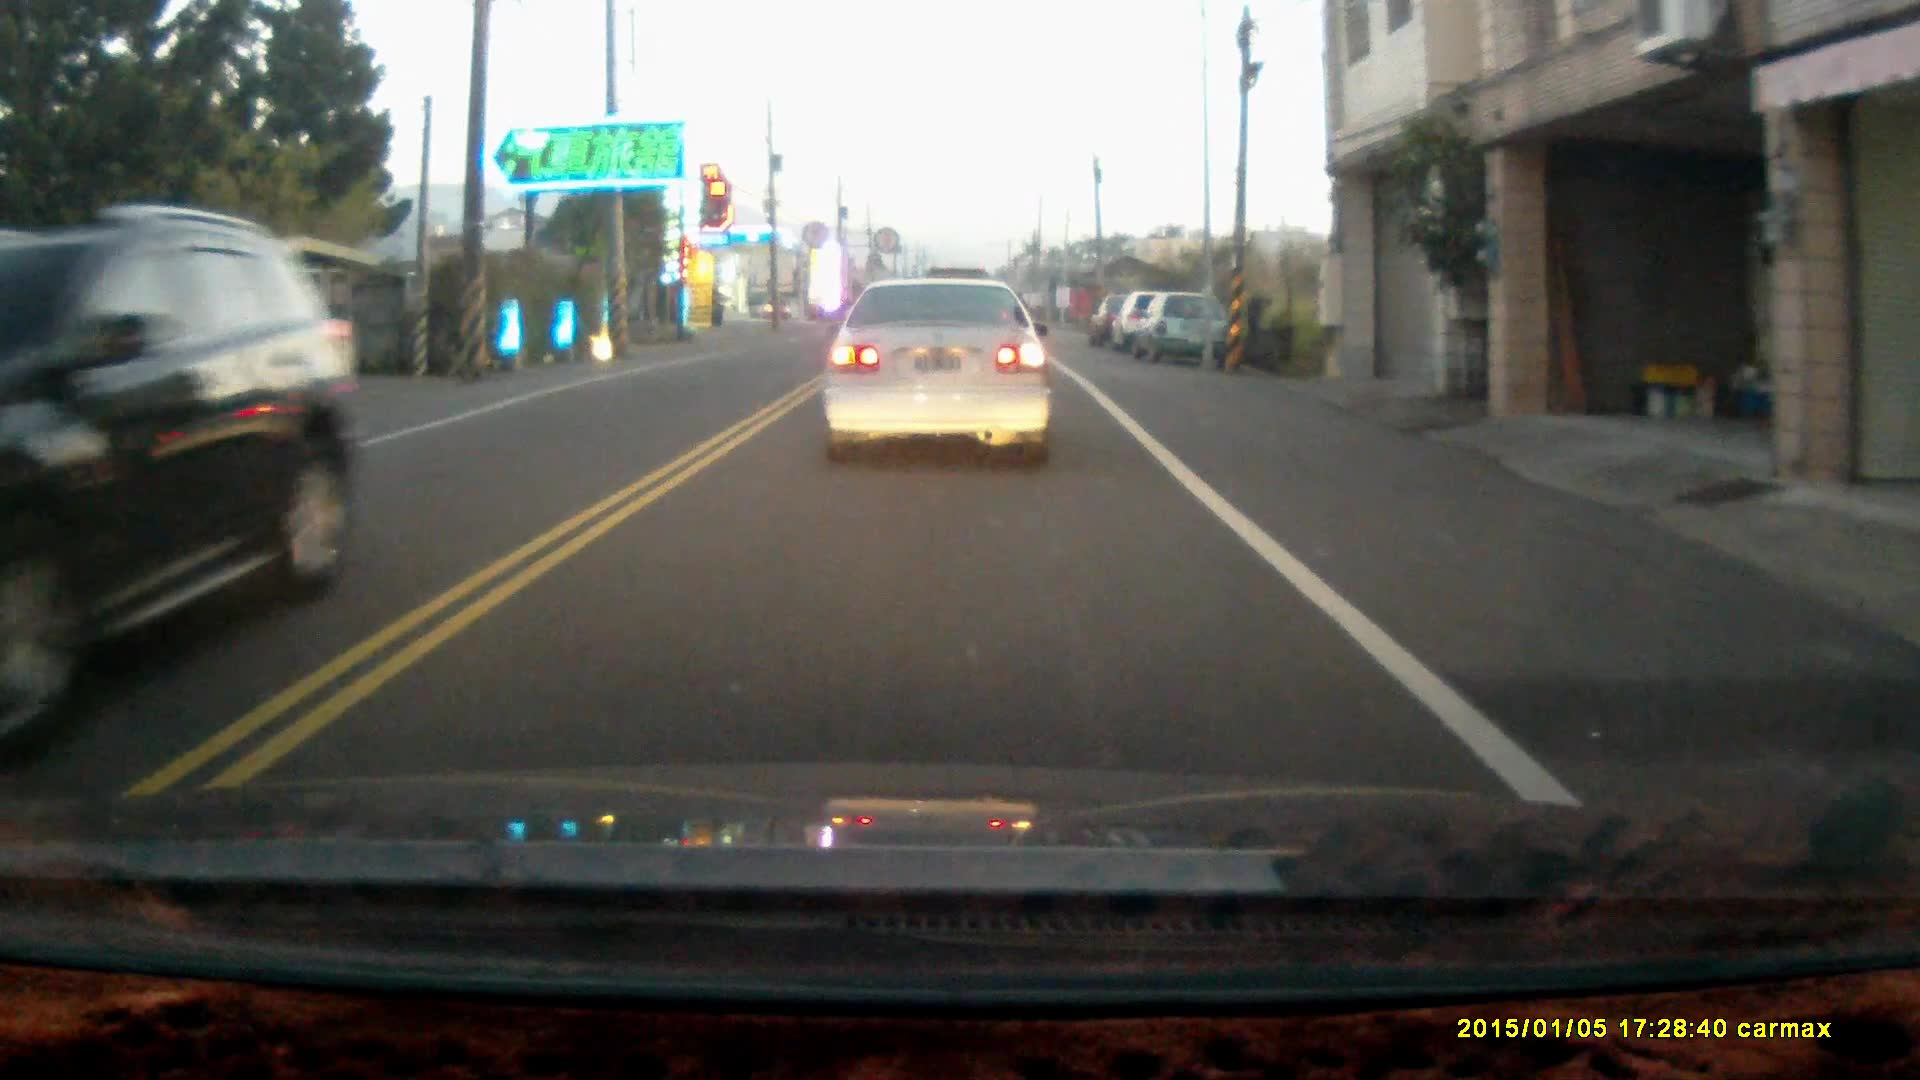vehicle: (1, 206, 364, 716), (819, 276, 1051, 465), (1129, 293, 1226, 365), (1116, 293, 1197, 353)
